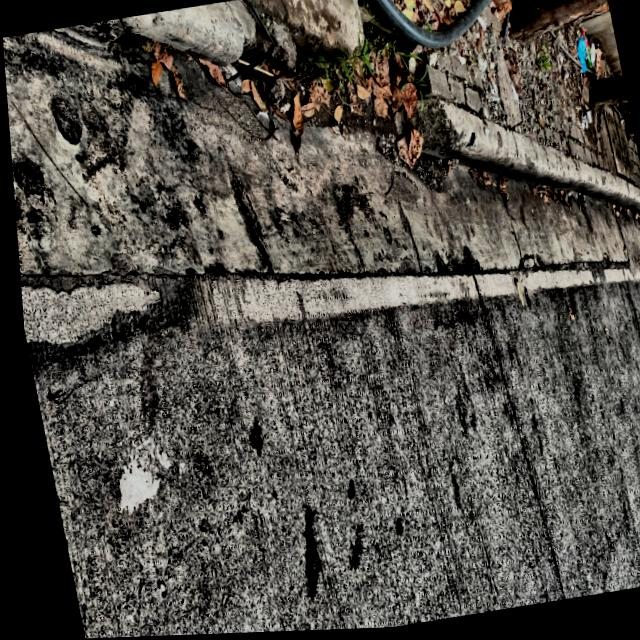no_or_faded_road_markings: (168, 272, 514, 329), (21, 282, 164, 344)
